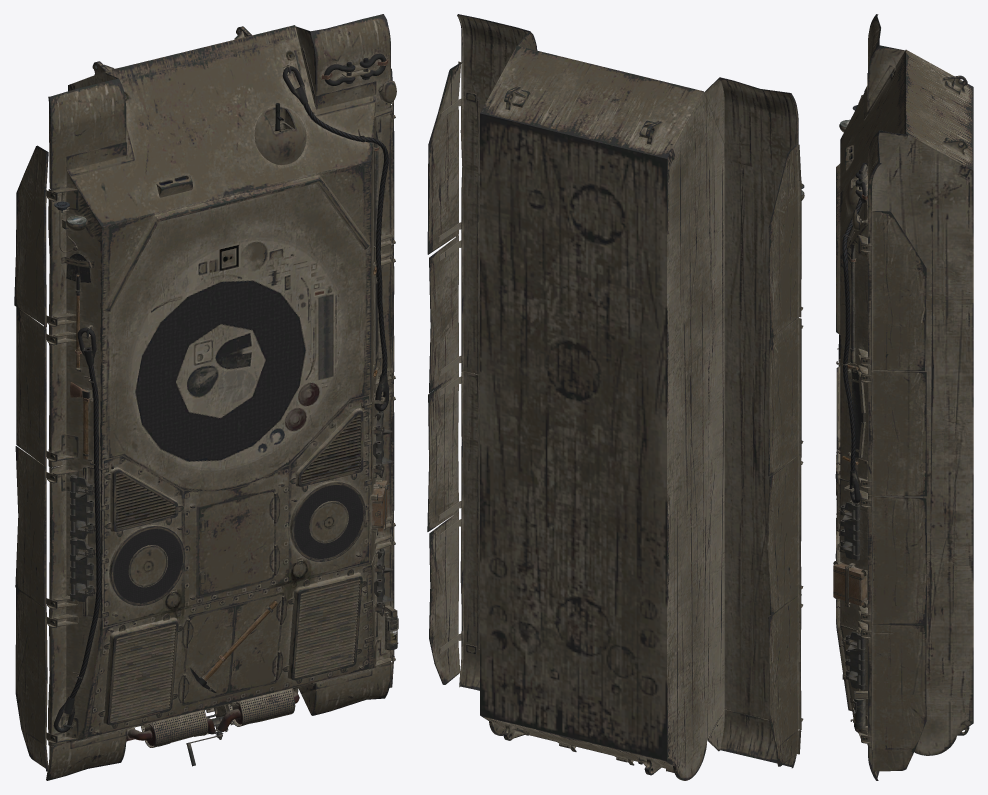
The model's file is Hull.glb.
The picture shows the model from 3 angles, left to right: view 1: azimuth 30°, elevation 25°; view 2: azimuth 150°, elevation 25°; view 3: azimuth 270°, elevation 25°; orthographic projection. The views are drawn at different scales.
Visible parts, largest first — view 1: set_0_group_0; view 2: set_0_group_0; view 3: set_0_group_0.
Part boxes in pixels (x1=…): set_0_group_0: x1=14, y1=14, x2=398, y2=780; set_0_group_0: x1=427, y1=14, x2=804, y2=780; set_0_group_0: x1=833, y1=14, x2=973, y2=780.
Bounding box in the file's own units: 3.57 × 6.89 × 1.37.
1 material, 1 textured.
